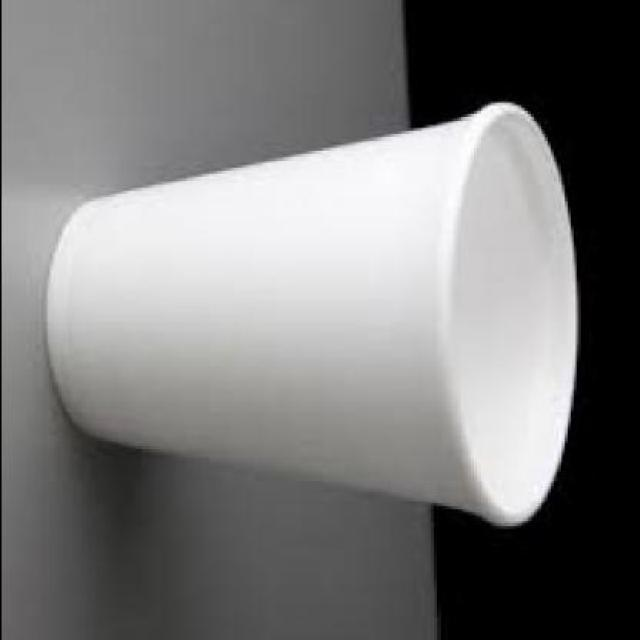PAPER: (60, 105, 586, 532)
